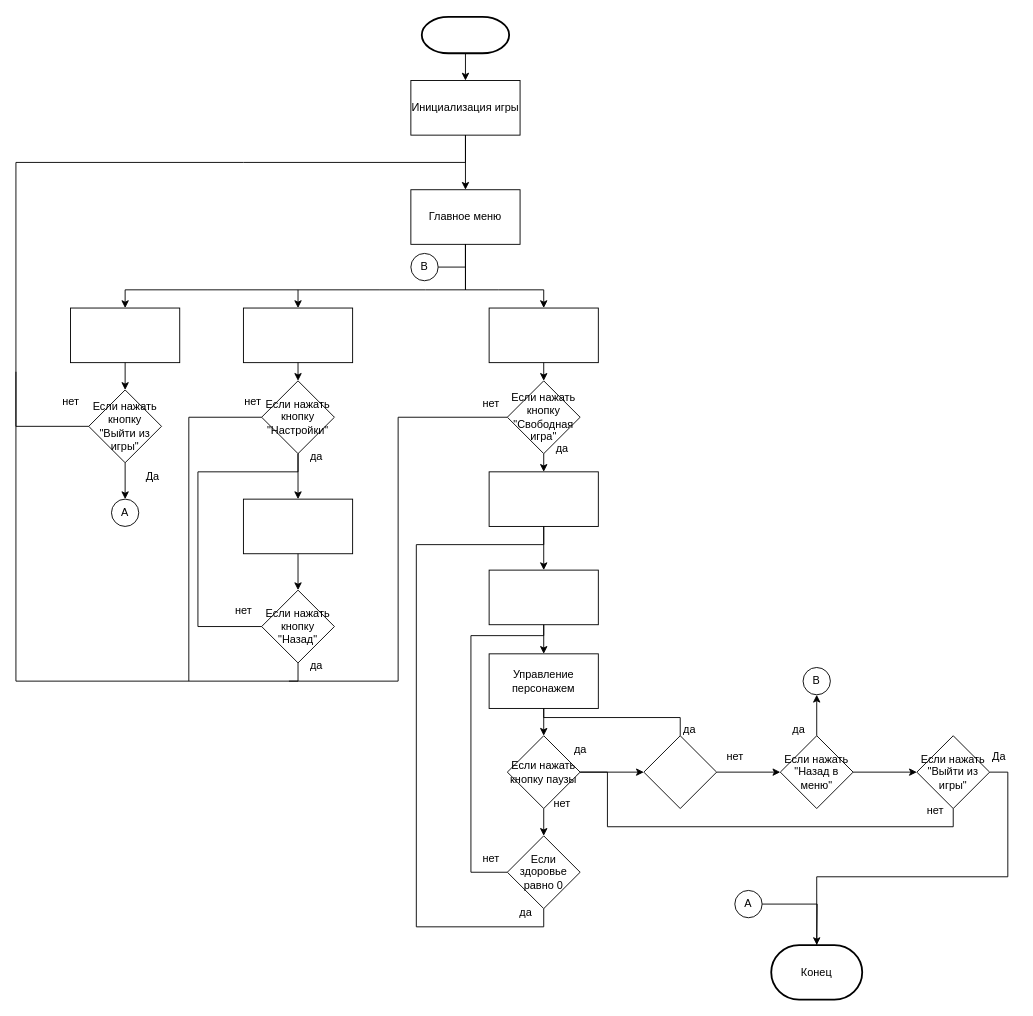
Some shapes in this 1033 by 1016 pixel diagram are drawn without their labels. The centre of each missing label's shape, as x and y in pixels:
Генерация мира: the point at 543,498
Если нажать "Продолжить": the point at 680,772
Инициализация персонажа: the point at 543,597
Кнопка "Выйти из игры": the point at 125,335
Кнопка "Настройки": the point at 298,335
Кнопка "Свободная игра": the point at 543,335
Меню настройки: the point at 298,526
Начало: the point at 465,34
